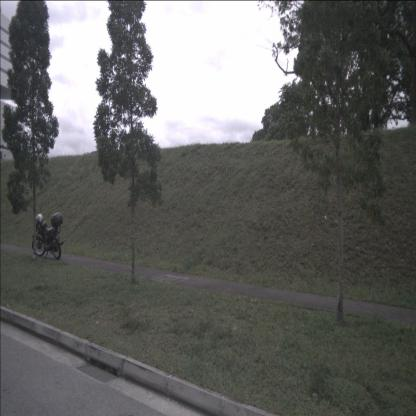vehicle-motorcycle: (31, 210, 64, 260)
